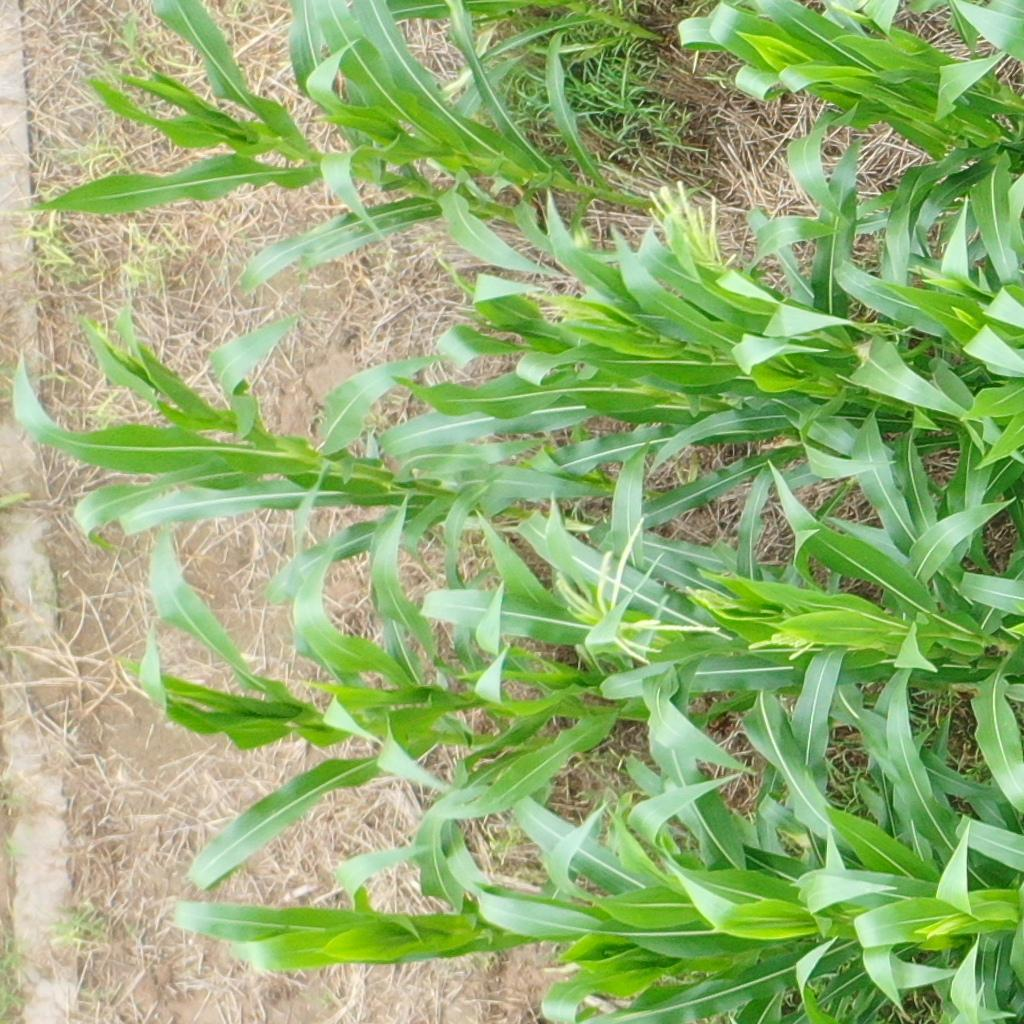Tassel: (547, 513, 723, 666), (641, 178, 739, 265), (749, 622, 820, 669), (925, 916, 974, 938), (564, 301, 608, 322)
